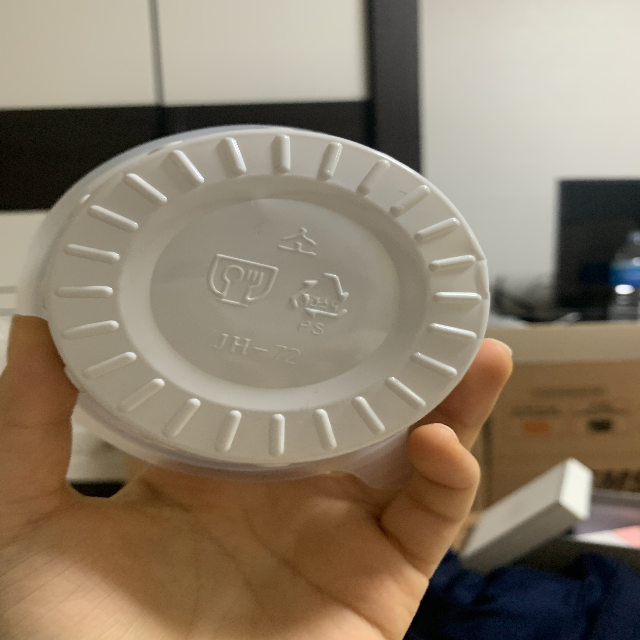ps: (289, 270, 347, 333)
